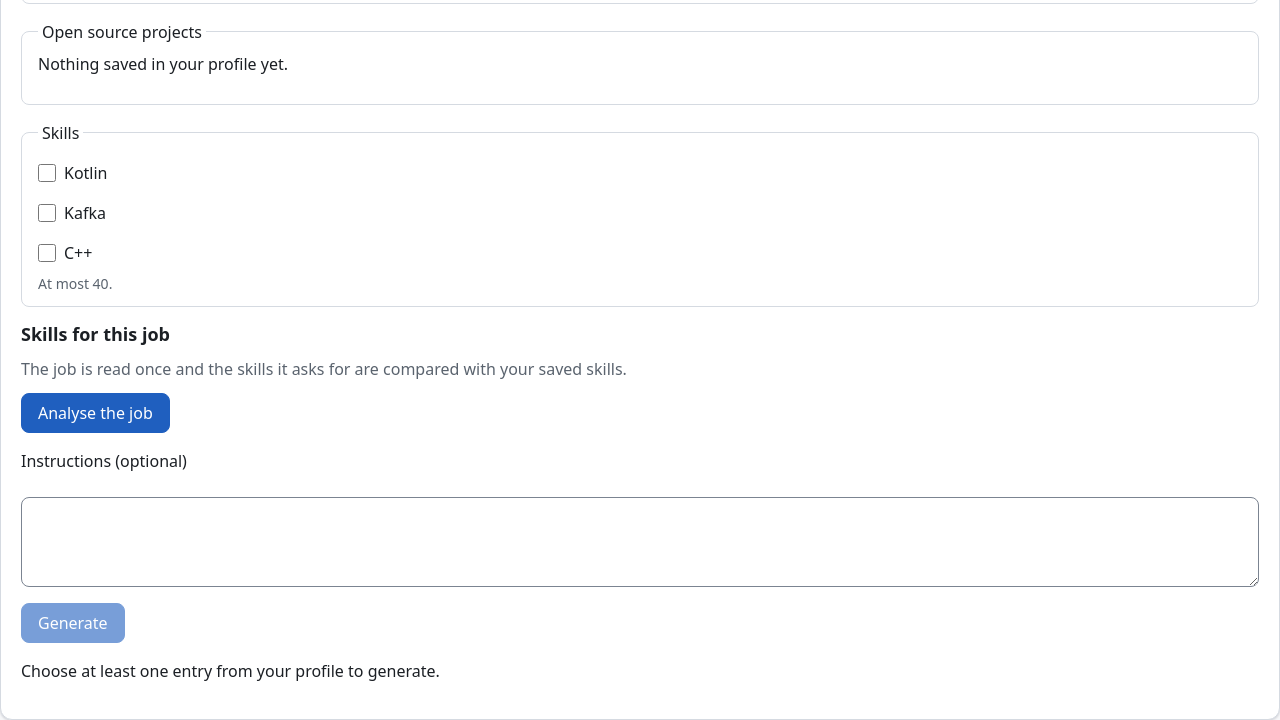
Test: the skills step › analyses on request
The image size is (1280, 720).
(page scrolled)
Click the button "Analyse the job". click: [95, 413]
box: [21,393,170,433]
(page scrolled)
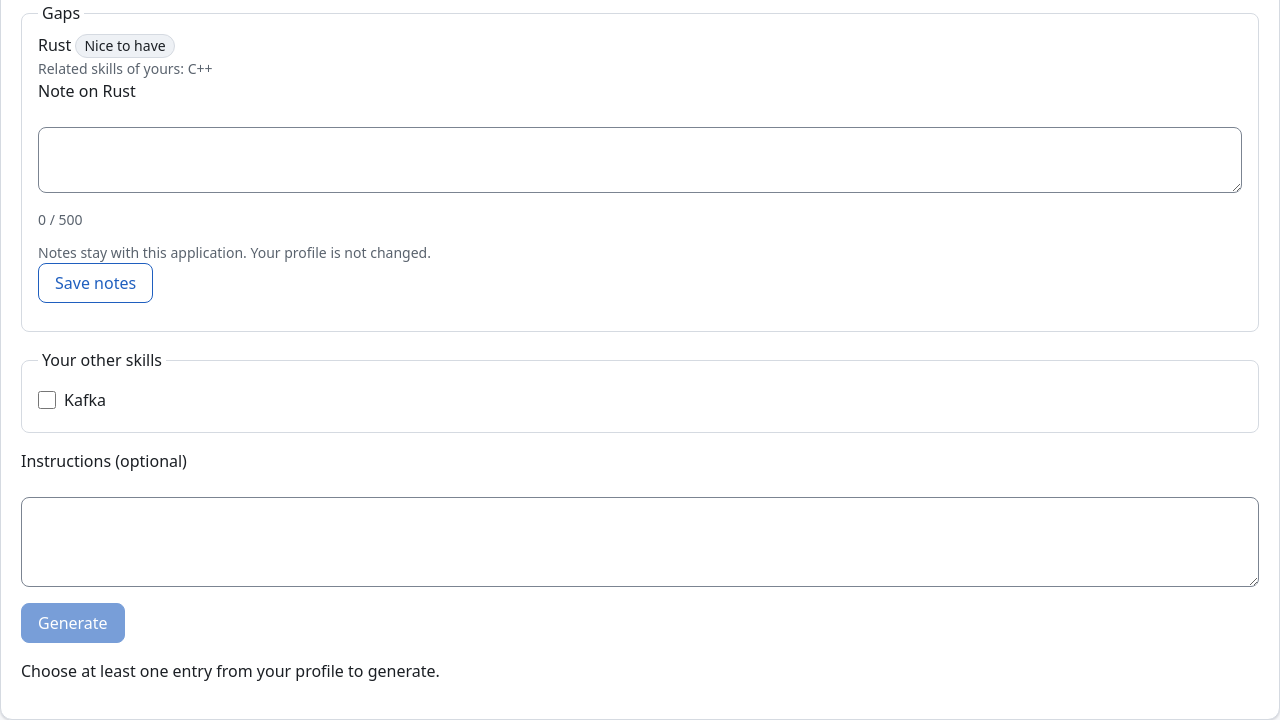
Expected: the text "Your other skills" is shown, [38,348,166,372]
